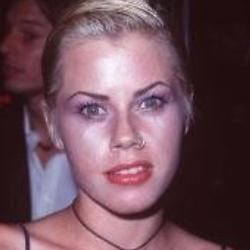face: (32, 2, 207, 217)
